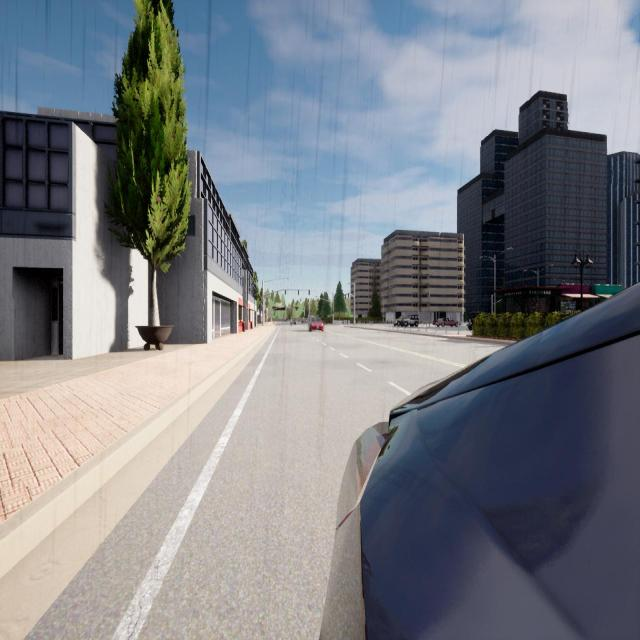Vehicle: (321, 284, 639, 638), (394, 315, 418, 327), (436, 317, 458, 327), (310, 318, 324, 331), (468, 313, 473, 330), (290, 319, 296, 325)
traffic_light: (308, 290, 310, 295), (285, 290, 286, 295), (298, 290, 299, 295), (333, 310, 334, 314), (308, 298, 309, 302), (348, 294, 349, 298), (345, 295, 346, 298), (301, 299, 301, 301), (318, 299, 318, 302)
